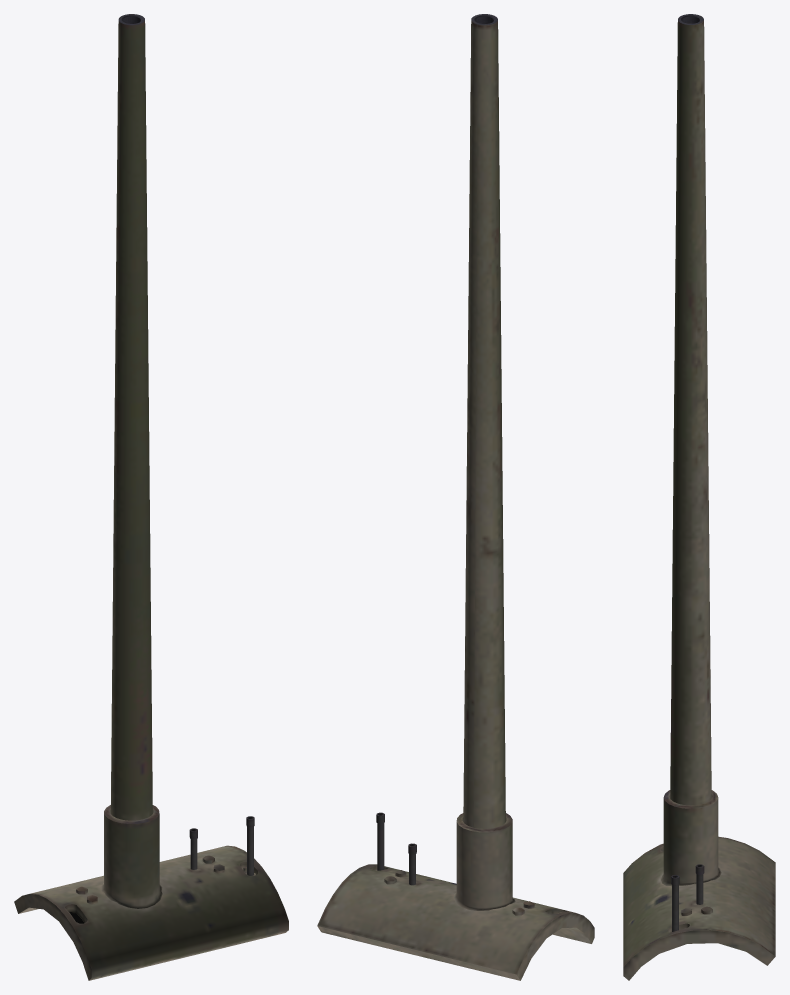
The model's file is Gun_03.glb.
The picture shows the model from 3 angles, left to right: view 1: azimuth 30°, elevation 25°; view 2: azimuth 150°, elevation 25°; view 3: azimuth 270°, elevation 25°; orthographic projection. The views are drawn at different scales.
Visible parts, largest first — view 1: set_0_group_0; view 2: set_0_group_0; view 3: set_0_group_0.
Part boxes in pixels (box(x1,y1,x2,y2)): set_0_group_0: box(14, 14, 288, 980); set_0_group_0: box(317, 14, 594, 980); set_0_group_0: box(623, 14, 775, 980).
Size of the model in its own units: 0.5563 by 2.48 by 0.3783.
1 material, 1 textured.
